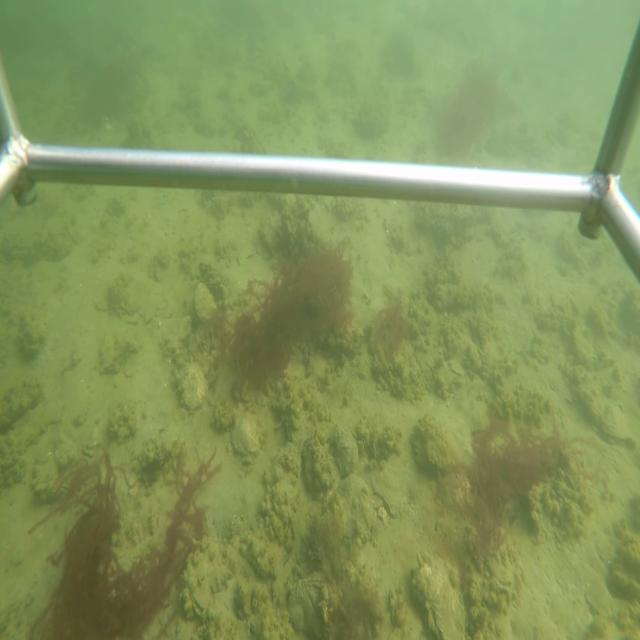Oyster-Closed: (408, 556, 466, 640), (176, 359, 208, 416)
Oyster-Indeterminate: (415, 419, 461, 477), (227, 403, 258, 456)
Oyster-Open: (188, 280, 219, 326)
